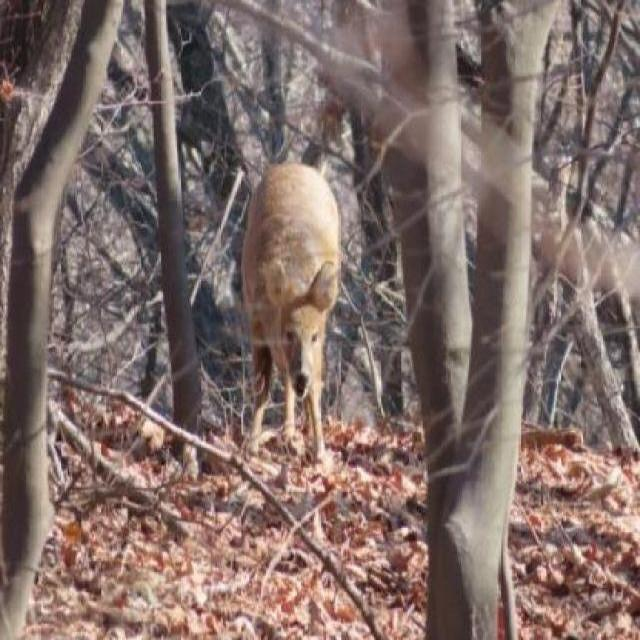deer: (243, 163, 339, 468)
